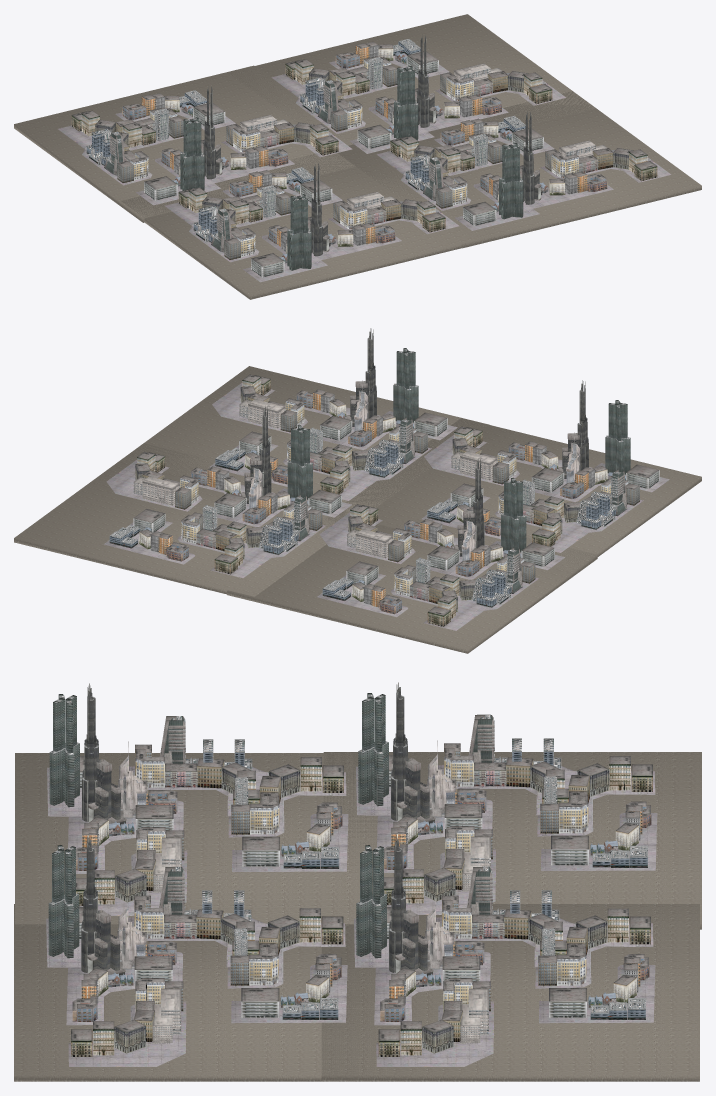
Rendered from futuristic_city.glb.
The picture shows the model from 3 angles, top to bottom: view 1: azimuth 30°, elevation 25°; view 2: azimuth 150°, elevation 25°; view 3: azimuth 270°, elevation 25°; orthographic projection. The views are drawn at different scales.
Parts seen in each view (by area): view 1: Material2 (×7); view 2: Material2 (×7); view 3: Material2 (×6).
Part boxes in pixels (<box>): Material2 (×7): <box>14,14,701,299</box>; Material2 (×7): <box>14,328,701,653</box>; Material2 (×6): <box>14,682,701,1081</box>.
Size of the model in its own units: 169254 by 34287 by 152116.
Materials: 5 (4 with a texture image).
